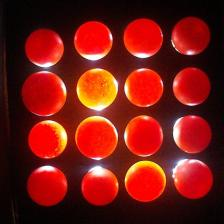fertile: (21, 71, 67, 116), (173, 159, 213, 200), (27, 166, 67, 206), (171, 16, 211, 56), (25, 28, 64, 68), (172, 115, 211, 154), (172, 67, 211, 106), (81, 167, 119, 207)
infertile: (76, 115, 119, 160), (76, 68, 119, 111), (124, 160, 167, 202), (123, 115, 163, 157), (124, 18, 164, 59), (124, 68, 164, 108), (74, 21, 113, 61), (28, 120, 68, 158)
